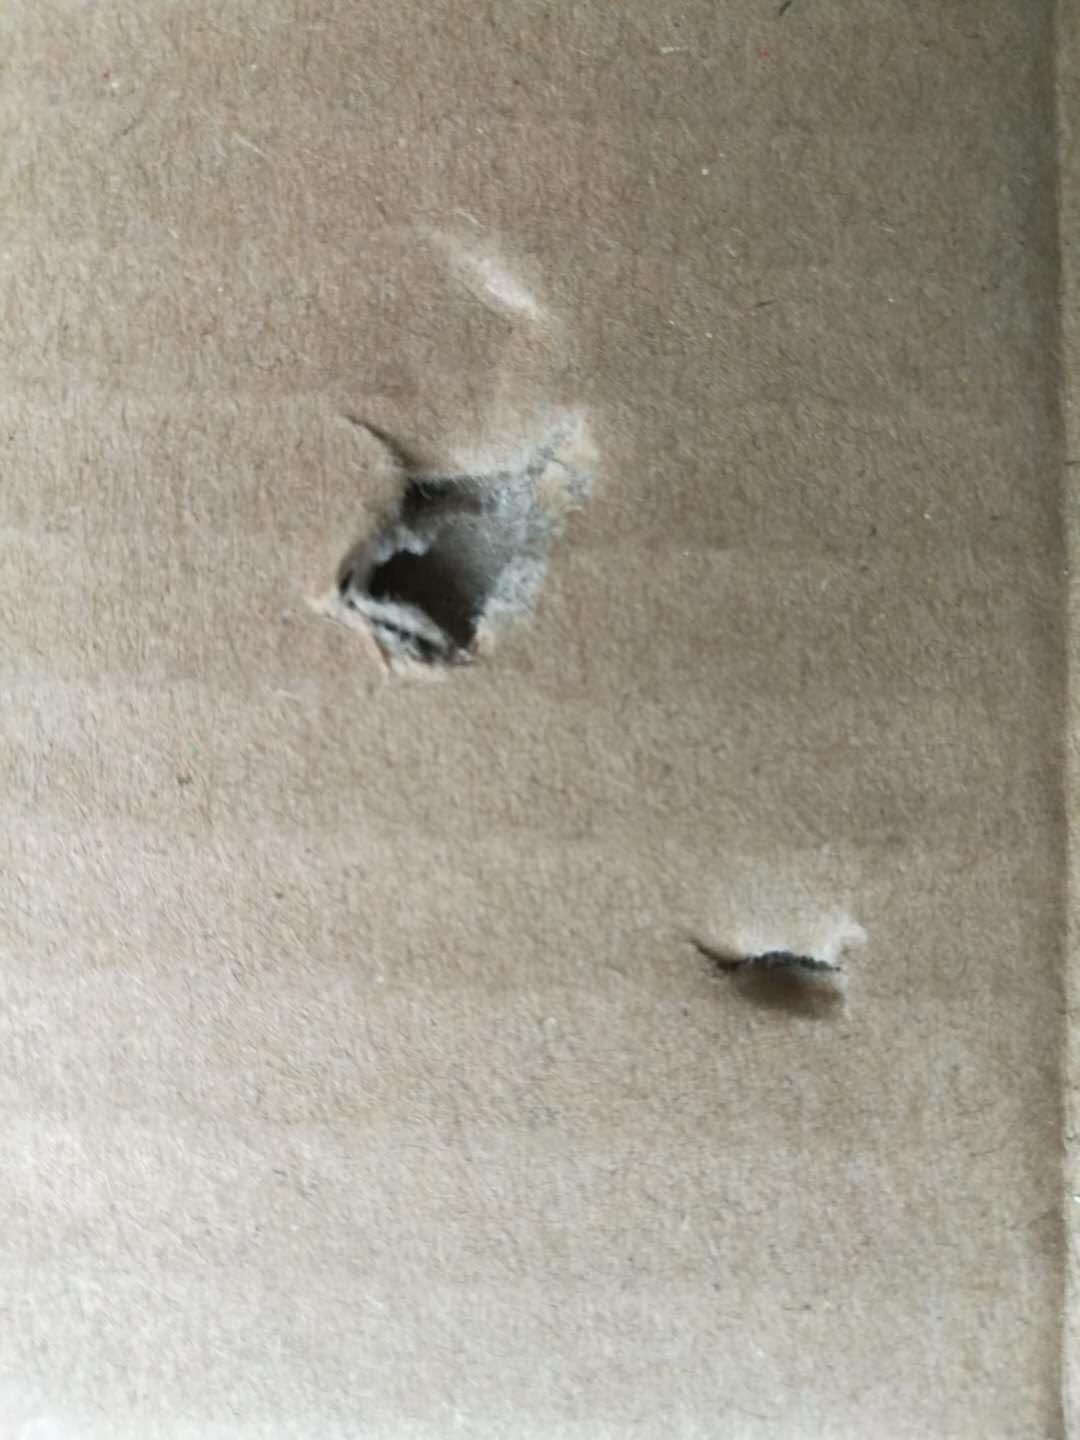defect: (292, 196, 635, 721), (1031, 2, 1080, 1439), (660, 869, 879, 1067)
